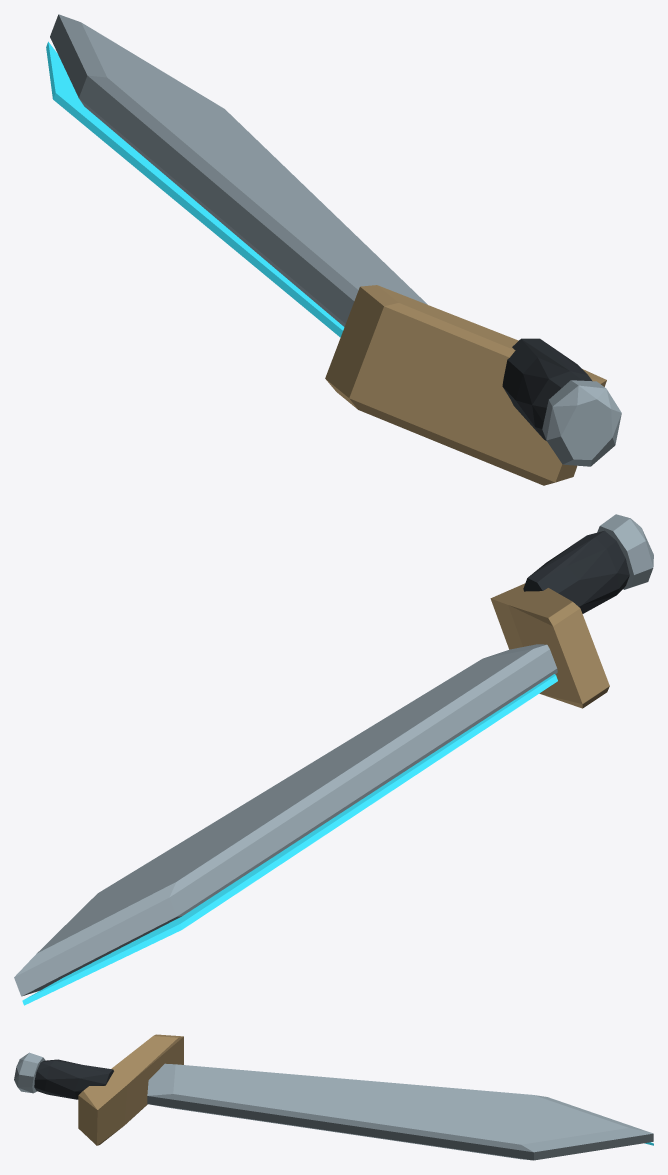
The model's file is weapon-low.glb.
3 renders of one model, top to bottom at view 1: azimuth 30°, elevation 25°; view 2: azimuth 150°, elevation 25°; view 3: azimuth 270°, elevation 25°, orthographic. The views are drawn at different scales.
Parts seen in each view (by area): view 1: CW_Relic_weapon; view 2: CW_Relic_weapon; view 3: CW_Relic_weapon.
Boxes of the visible parts, <box> form: CW_Relic_weapon: <box>46,14,621,485</box>; CW_Relic_weapon: <box>14,514,653,1005</box>; CW_Relic_weapon: <box>14,1034,653,1160</box>.
Bounding box in the file's own units: 0.2068 × 0.1324 × 0.9294.
